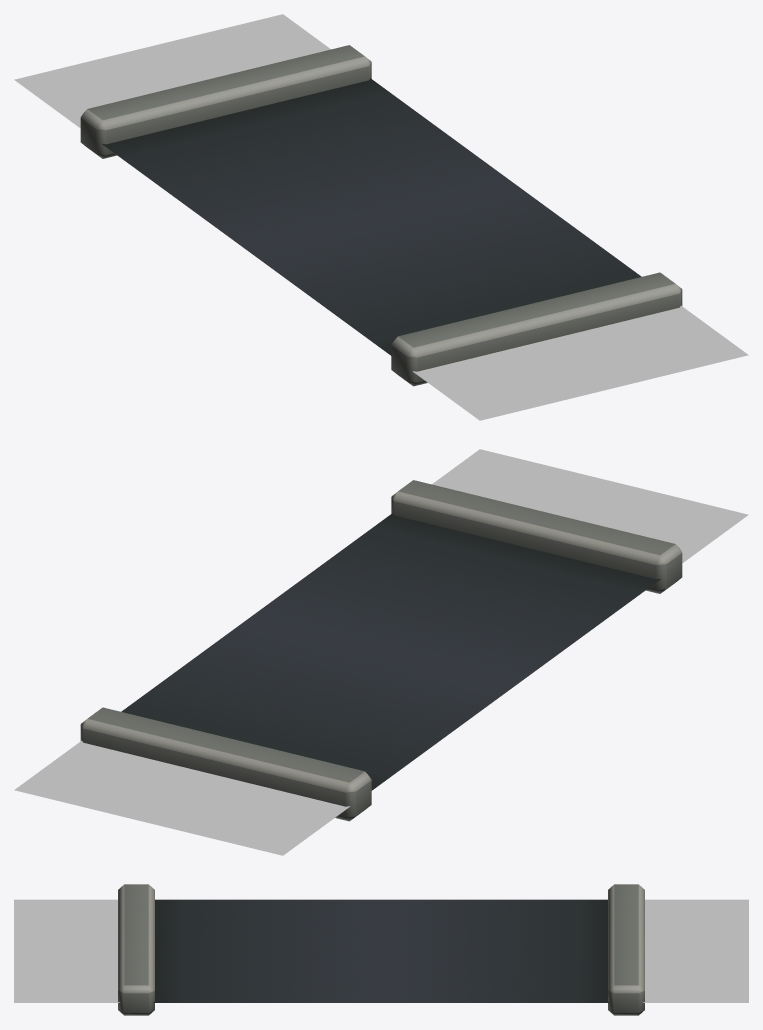
File: lane_section_x2.fbx
The picture shows the model from 3 angles, top to bottom: view 1: azimuth 30°, elevation 25°; view 2: azimuth 150°, elevation 25°; view 3: azimuth 270°, elevation 25°; orthographic projection. The views are drawn at different scales.
Parts seen in each view (by area): view 1: lane_section_x2, lane_section_x2_sidewalk; view 2: lane_section_x2, lane_section_x2_sidewalk; view 3: lane_section_x2, lane_section_x2_sidewalk.
Part boxes in pixels (x1,y1,x2,y2): lane_section_x2: (80, 45, 682, 386); lane_section_x2_sidewalk: (14, 14, 748, 420); lane_section_x2: (80, 480, 682, 821); lane_section_x2_sidewalk: (14, 449, 748, 855); lane_section_x2: (118, 884, 644, 1015); lane_section_x2_sidewalk: (14, 899, 748, 1002).
Size of the model in its own units: 410 by 55 by 1200.
